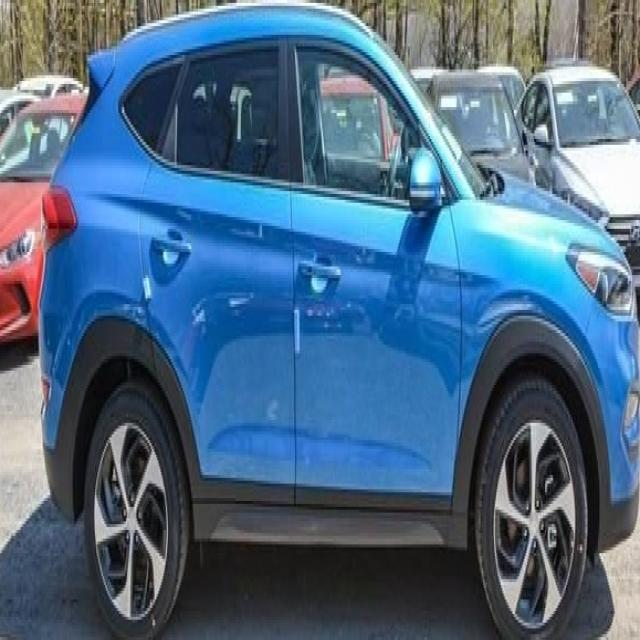blue: (40, 6, 640, 634)
red: (1, 92, 76, 334)
